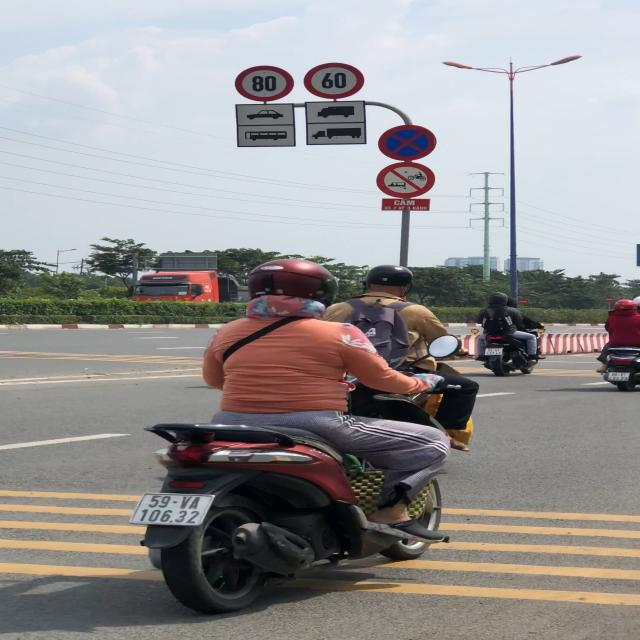Bien bao cam dung xe va do xe: (378, 120, 441, 163)
Bien bao toc do toi da cho phep: (301, 61, 368, 100), (233, 63, 297, 102)
